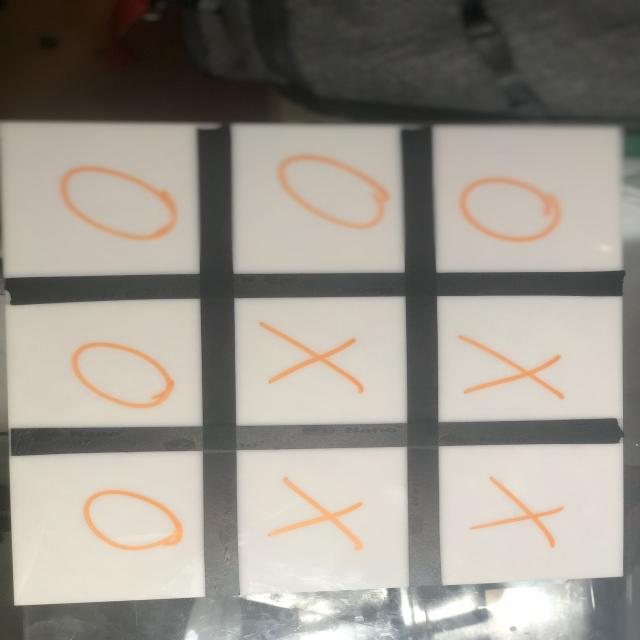o: (60, 160, 174, 249), (277, 149, 386, 234), (68, 335, 181, 411), (460, 172, 565, 248), (76, 484, 186, 556)
table: (0, 120, 622, 605)
x: (263, 478, 367, 552), (259, 319, 362, 393), (466, 473, 565, 547), (460, 333, 563, 402)
